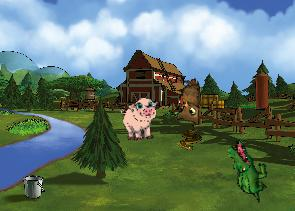crocodile: (213, 137, 281, 204)
owl: (170, 77, 204, 127)
pig: (119, 97, 161, 142)
